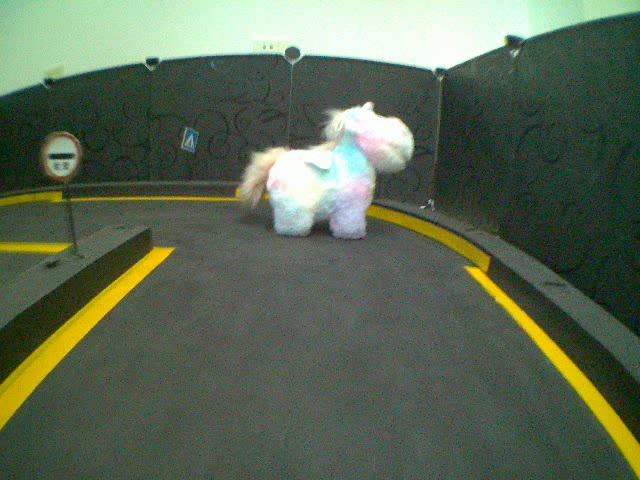unicorn: (238, 100, 417, 238)
